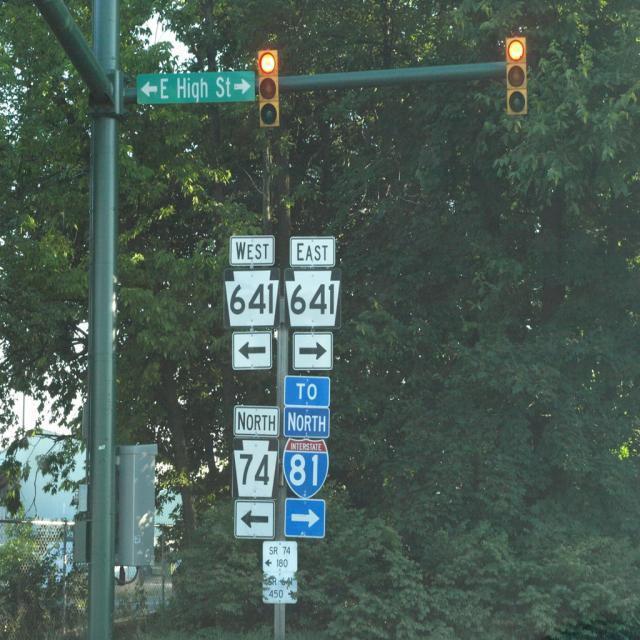traffic light: (505, 36, 529, 115), (257, 49, 281, 127)
